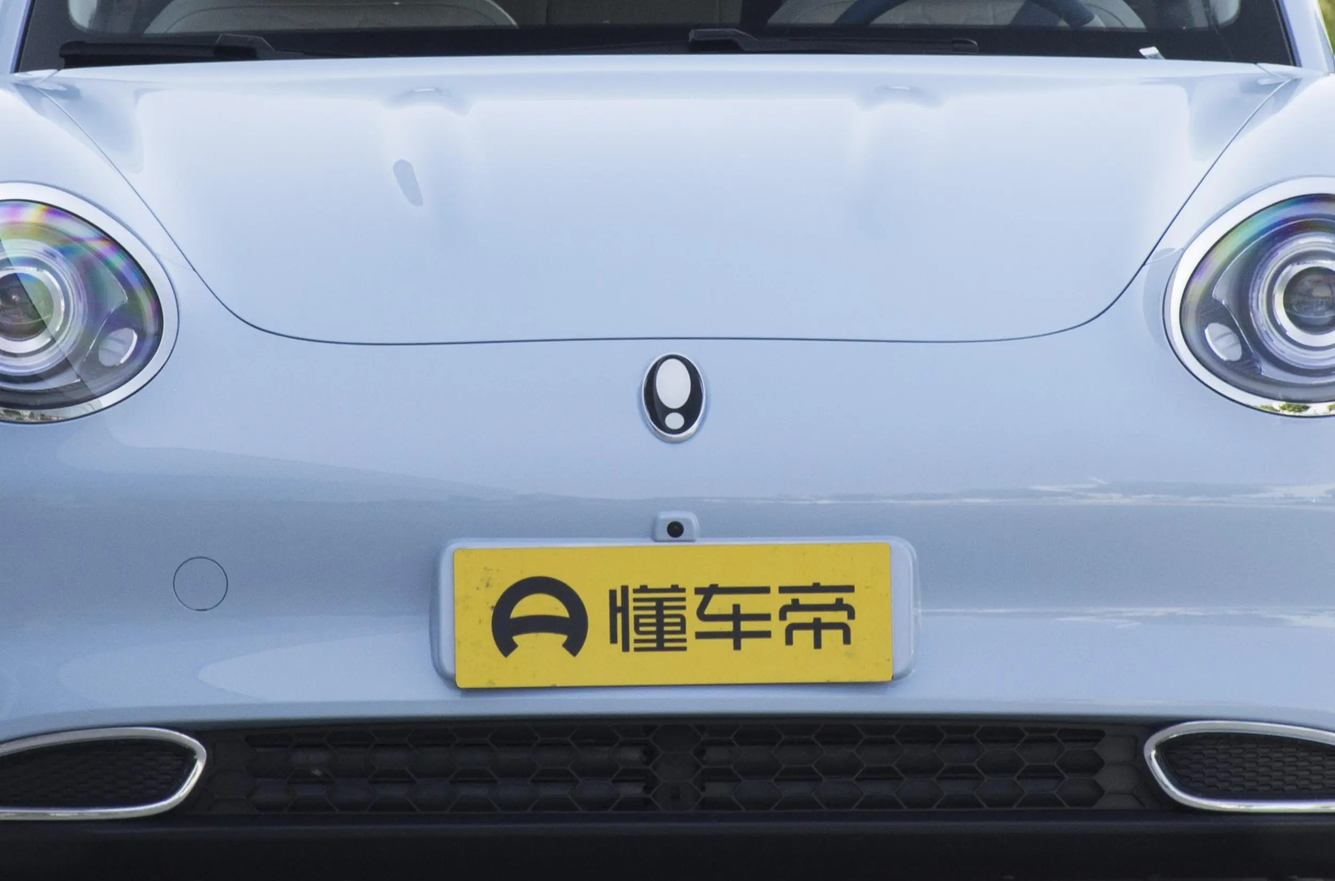ORA: (644, 354, 705, 441)
